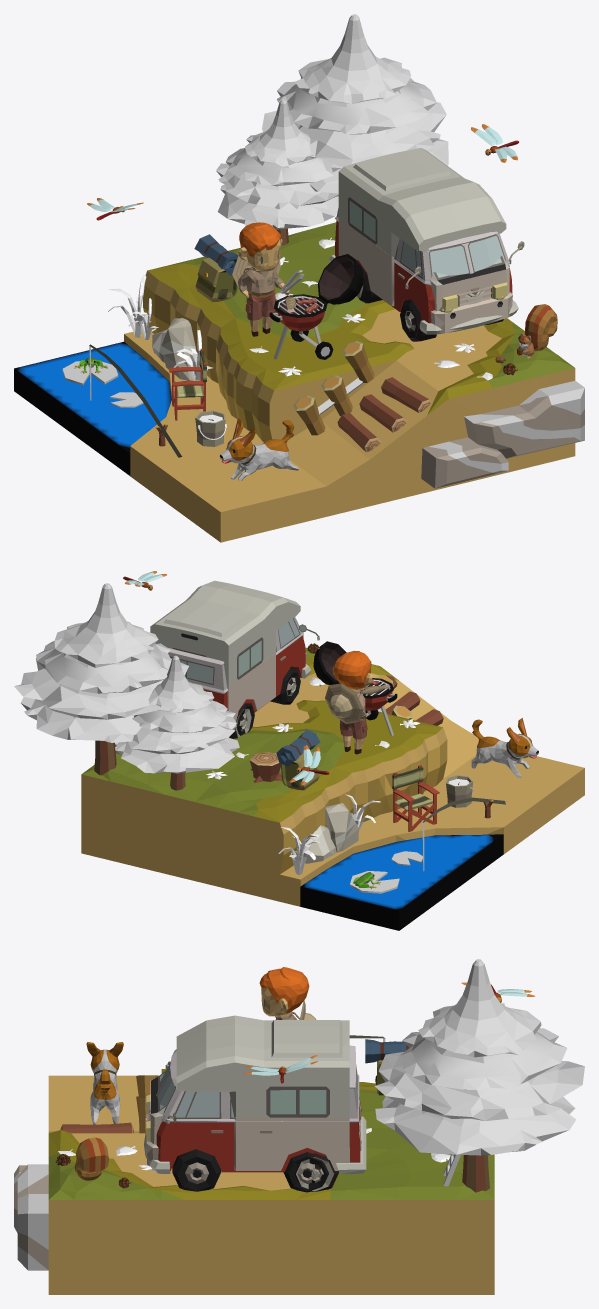
The model's file is 0018_camping.fbx.
3 views of the same model, one above another, from view 1: azimuth 30°, elevation 25°; view 2: azimuth 150°, elevation 25°; view 3: azimuth 270°, elevation 25° (orthographic). The views are drawn at different scales.
Parts seen in each view (by area): view 1: plate, campingcar_upper (×2), [water], campingcar_lower (×2), leaf4, leaf3, leaf2, grill, leaf12, leaf42, leaf22, leaf32 (+17 smaller); view 2: plate, [water], campingcar_upper (×2), leaf4, leaf3, leaf2, campingcar_lower (×2), leaf1, leaf12, leaf32, leaf42, leaf22 (+16 smaller); view 3: plate, campingcar_upper (×2), campingcar_lower (×2), leaf2, leaf1, leaf4, leaf3, tire (×2), man_head, squirrel_tail, dog_low, dog_up (+5 smaller).
Boxes of the visible parts, <box> form: plate: <box>124,222,584,542</box>; campingcar_upper (×2): <box>334,148,509,285</box>; [water]: <box>14,341,171,475</box>; campingcar_lower (×2): <box>328,218,518,334</box>; leaf4: <box>295,14,410,104</box>; leaf3: <box>277,78,436,134</box>; leaf2: <box>262,102,446,167</box>; grill: <box>269,254,363,359</box>; leaf12: <box>217,184,338,229</box>; leaf42: <box>245,99,317,166</box>; leaf22: <box>225,148,341,186</box>; leaf32: <box>216,163,338,209</box>; plate: <box>81,647,584,906</box>; [water]: <box>300,834,503,930</box>; campingcar_upper (×2): <box>150,580,303,693</box>; leaf4: <box>54,583,158,667</box>; leaf3: <box>36,641,171,693</box>; leaf2: <box>14,658,188,719</box>; campingcar_lower (×2): <box>203,632,311,729</box>; leaf1: <box>21,697,141,742</box>; leaf12: <box>116,737,239,773</box>; leaf32: <box>128,710,236,753</box>; leaf42: <box>148,655,214,712</box>; leaf22: <box>132,700,227,732</box>; plate: <box>14,1069,494,1294</box>; campingcar_upper (×2): <box>151,1015,359,1122</box>; campingcar_lower (×2): <box>144,1080,366,1173</box>; leaf2: <box>374,1052,584,1120</box>; leaf1: <box>375,1096,576,1155</box>; leaf4: <box>418,959,541,1057</box>; leaf3: <box>399,1028,567,1089</box>; tire (×2): <box>173,1149,328,1192</box>; man_head: <box>259,967,309,1017</box>; squirrel_tail: <box>76,1137,108,1180</box>; dog_low: <box>90,1069,120,1124</box>; dog_up: <box>86,1042,123,1090</box>.
Bounding box in the file's own units: 11.56 × 7.91 × 12.66.
